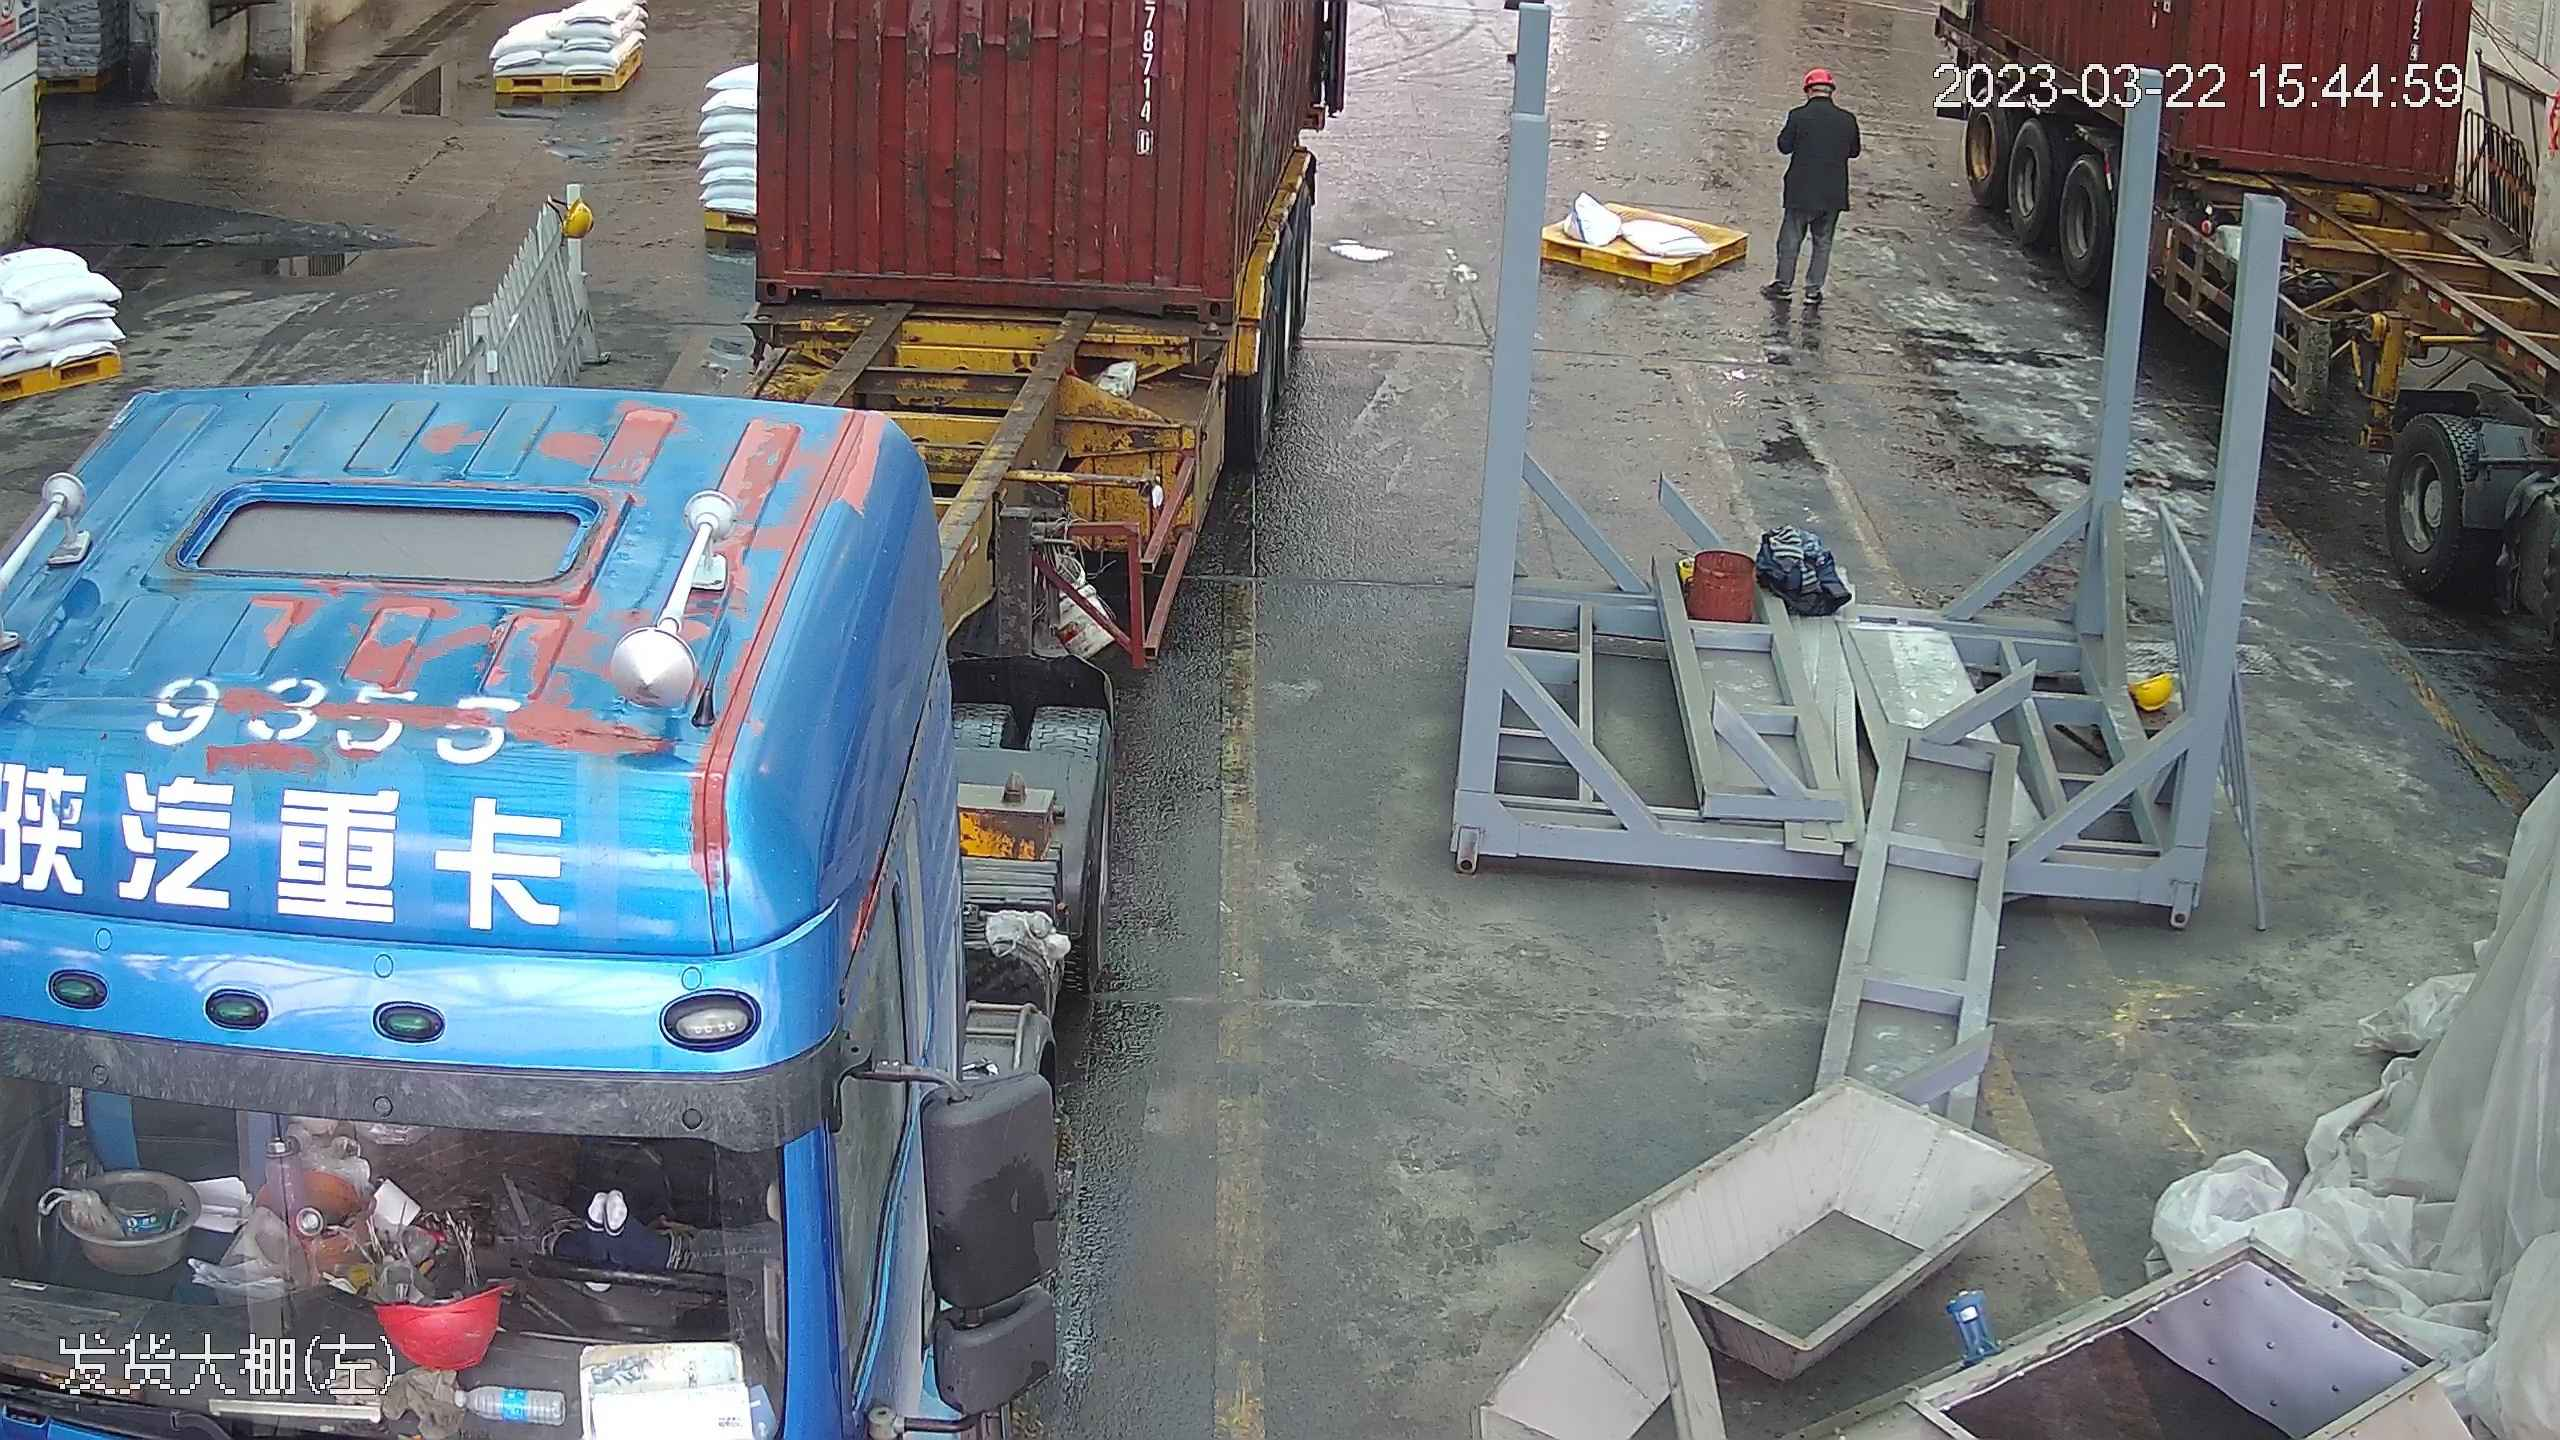head: (1781, 59, 1857, 138)
helmet: (2128, 667, 2176, 712), (559, 197, 593, 234), (1802, 61, 1838, 86)
people: (1760, 57, 1860, 327)
truck: (1, 119, 1182, 1423)
